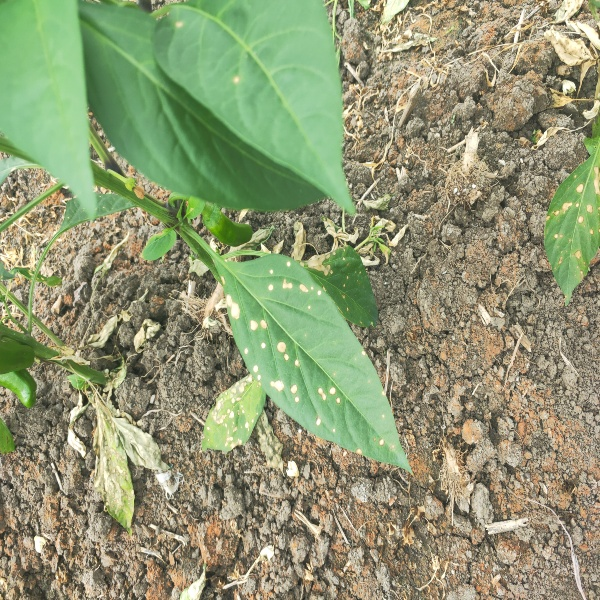Anthrax: (219, 258, 398, 457), (544, 160, 600, 306), (307, 248, 380, 329), (205, 374, 263, 454)
